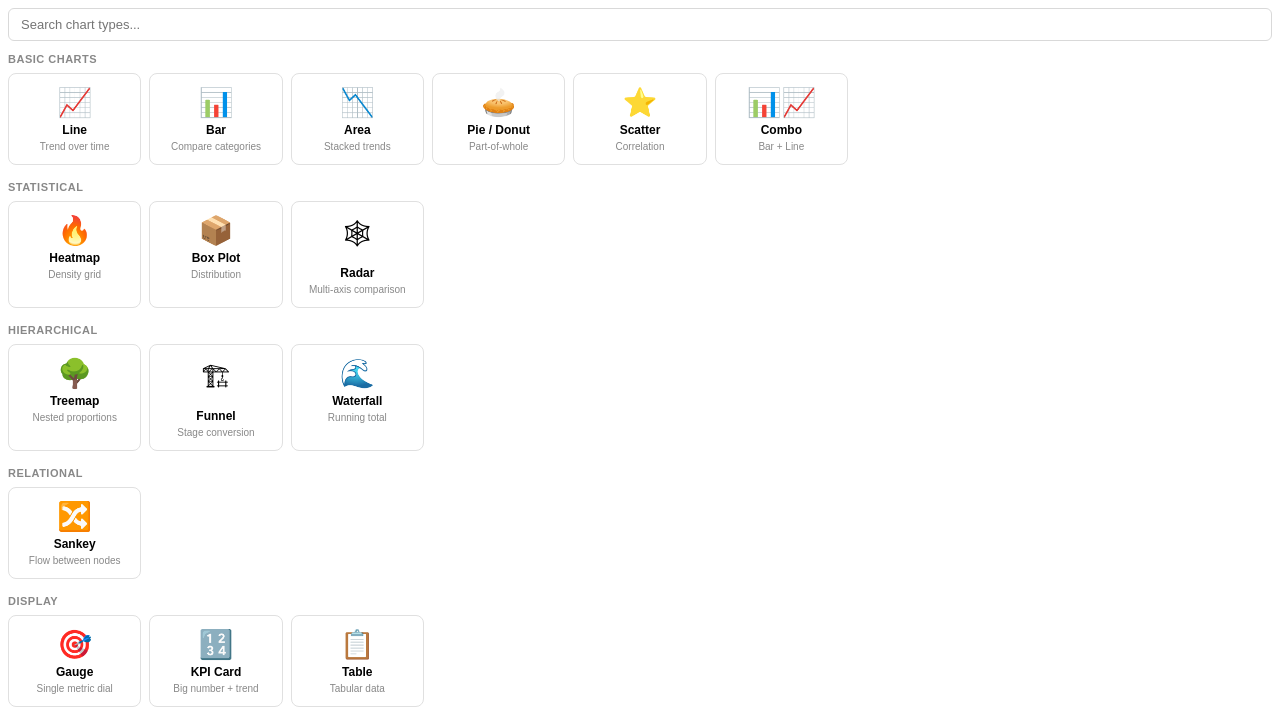
Scenario: ChartTypePicker › filters chart types by search query
Type "pie" into the field with test id "chart-search" at coordinates (640, 24), box [8,8,1272,41]
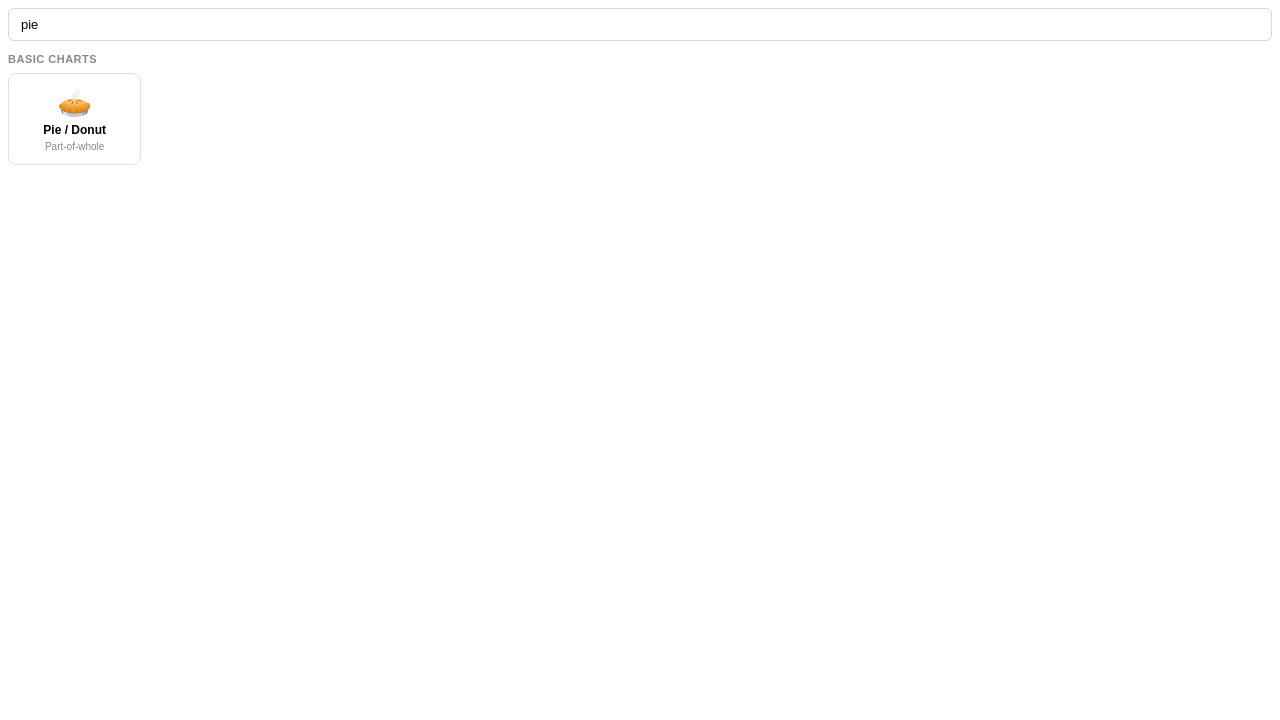
Check: the text "Pie / Donut" is shown, box [43,123,106,137]
Check: the button "Line" is gone
